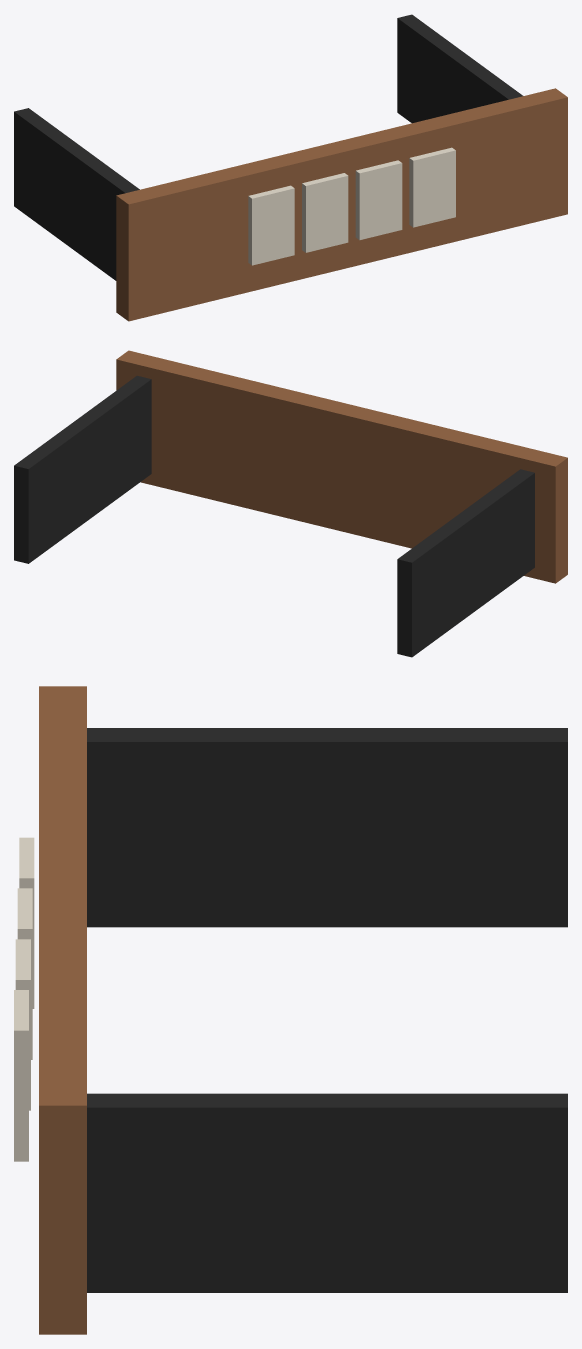
Rendered from gallery015_catalog_console.glb.
3 renders of one model, top to bottom at view 1: azimuth 30°, elevation 25°; view 2: azimuth 150°, elevation 25°; view 3: azimuth 270°, elevation 25°, orthographic. The views are drawn at different scales.
Visible parts, largest first — view 1: Top, Leg-0.72, Leg0.72, Book2, Book0, Book1, Book3; view 2: Top, Leg-0.72, Leg0.72; view 3: Leg-0.72, Leg0.72, Top, Book3, Book0, Book1, Book2.
Part boxes in pixels (x1,y1,x2,y2): Top: (116, 88, 567, 321); Leg-0.72: (14, 108, 139, 280); Leg0.72: (397, 14, 522, 123); Book2: (355, 160, 402, 240); Book0: (248, 185, 294, 265); Book1: (302, 173, 348, 252); Book3: (409, 147, 455, 227); Top: (116, 350, 567, 583); Leg-0.72: (397, 469, 534, 657); Leg0.72: (14, 375, 151, 563); Leg-0.72: (87, 728, 567, 927); Leg0.72: (87, 1093, 567, 1292); Top: (39, 686, 86, 1334); Book3: (14, 990, 28, 1161); Book0: (19, 837, 34, 1008); Book1: (17, 888, 32, 1059); Book2: (15, 939, 30, 1110).
Bounding box in the file's own units: 1.65 × 0.42 × 0.9215.
